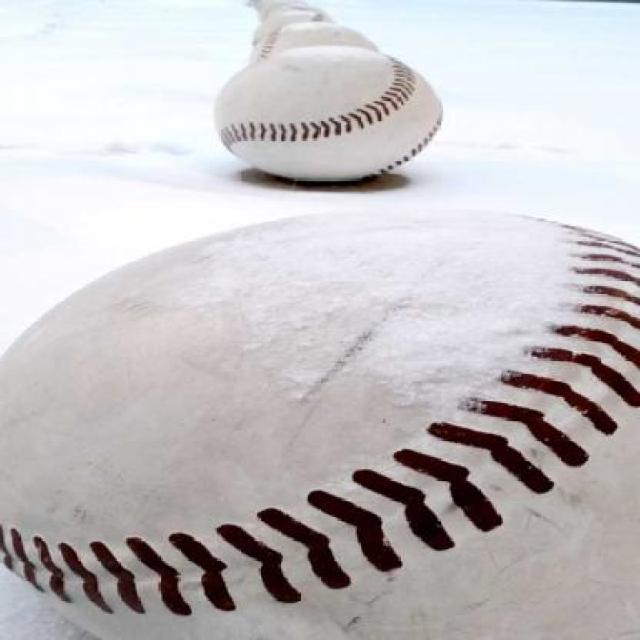-: (23, 224, 640, 607), (150, 47, 495, 179)
